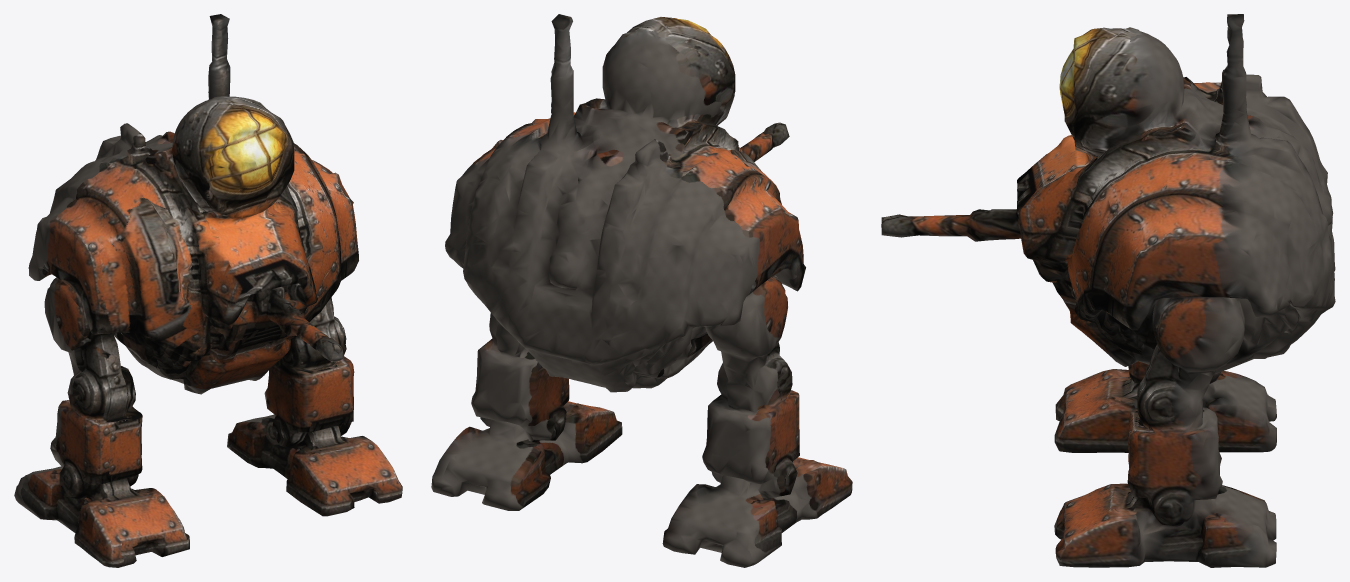
The model's file is spotlamp_lod0.glb.
The picture shows the model from 3 angles, left to right: view 1: azimuth 30°, elevation 25°; view 2: azimuth 150°, elevation 25°; view 3: azimuth 270°, elevation 25°; orthographic projection. The views are drawn at different scales.
Visible parts, largest first — view 1: geometry_0; view 2: geometry_0; view 3: geometry_0.
Part boxes in pixels (x1=…): geometry_0: x1=14, y1=14, x2=402, y2=567; geometry_0: x1=431, y1=14, x2=852, y2=567; geometry_0: x1=881, y1=14, x2=1335, y2=567.
Bounding box in the file's own units: 1.39 × 2 × 1.66.
1 material, 1 textured.
